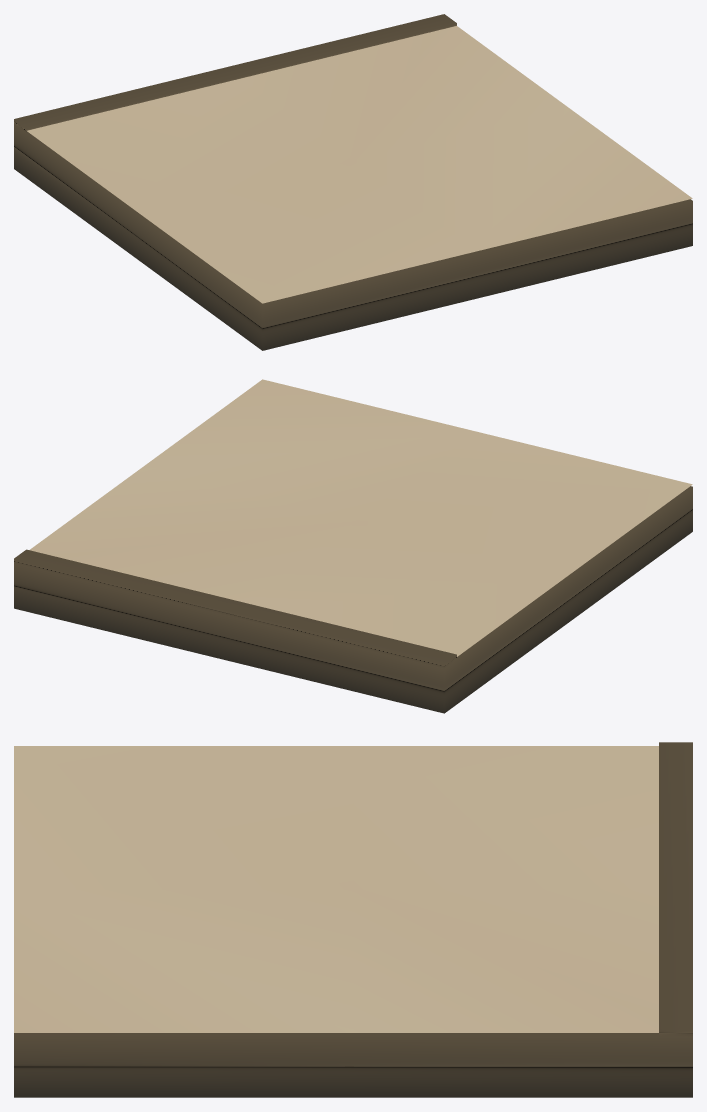
File: floor_gym.glb
3 views of the same model, one above another, from view 1: azimuth 30°, elevation 25°; view 2: azimuth 150°, elevation 25°; view 3: azimuth 270°, elevation 25° (orthographic). The views are drawn at different scales.
Parts seen in each view (by area): view 1: Tile.001; view 2: Tile.001; view 3: Tile.001.
Part boxes in pixels (x1,y1,x2,y2): Tile.001: (14,14,692,350); Tile.001: (14,379,692,713); Tile.001: (14,742,692,1097).
Bounding box in the file's own units: 1 × 0.111 × 1.
